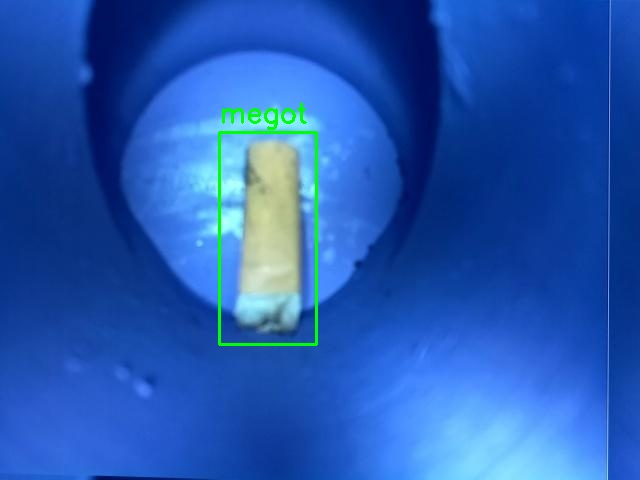megot: (219, 132, 316, 344)
